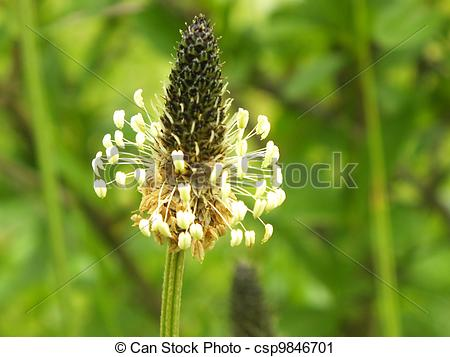buckhorn plantain: (102, 11, 292, 265)
